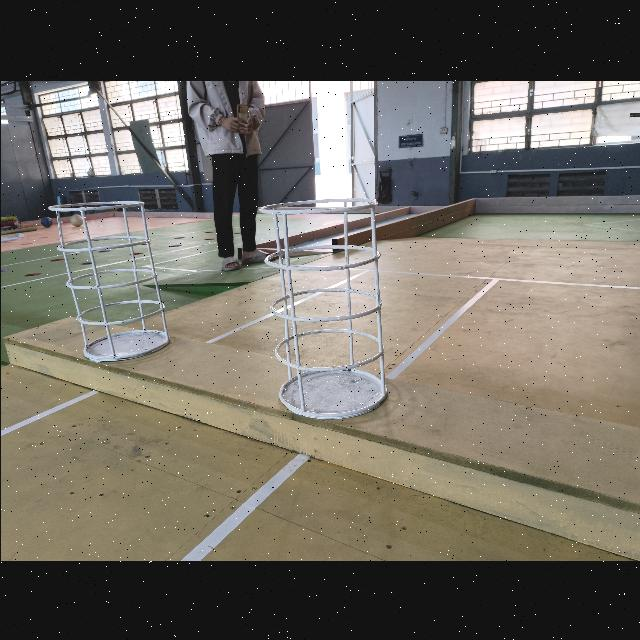S: (258, 196, 387, 420), (47, 200, 169, 363)
